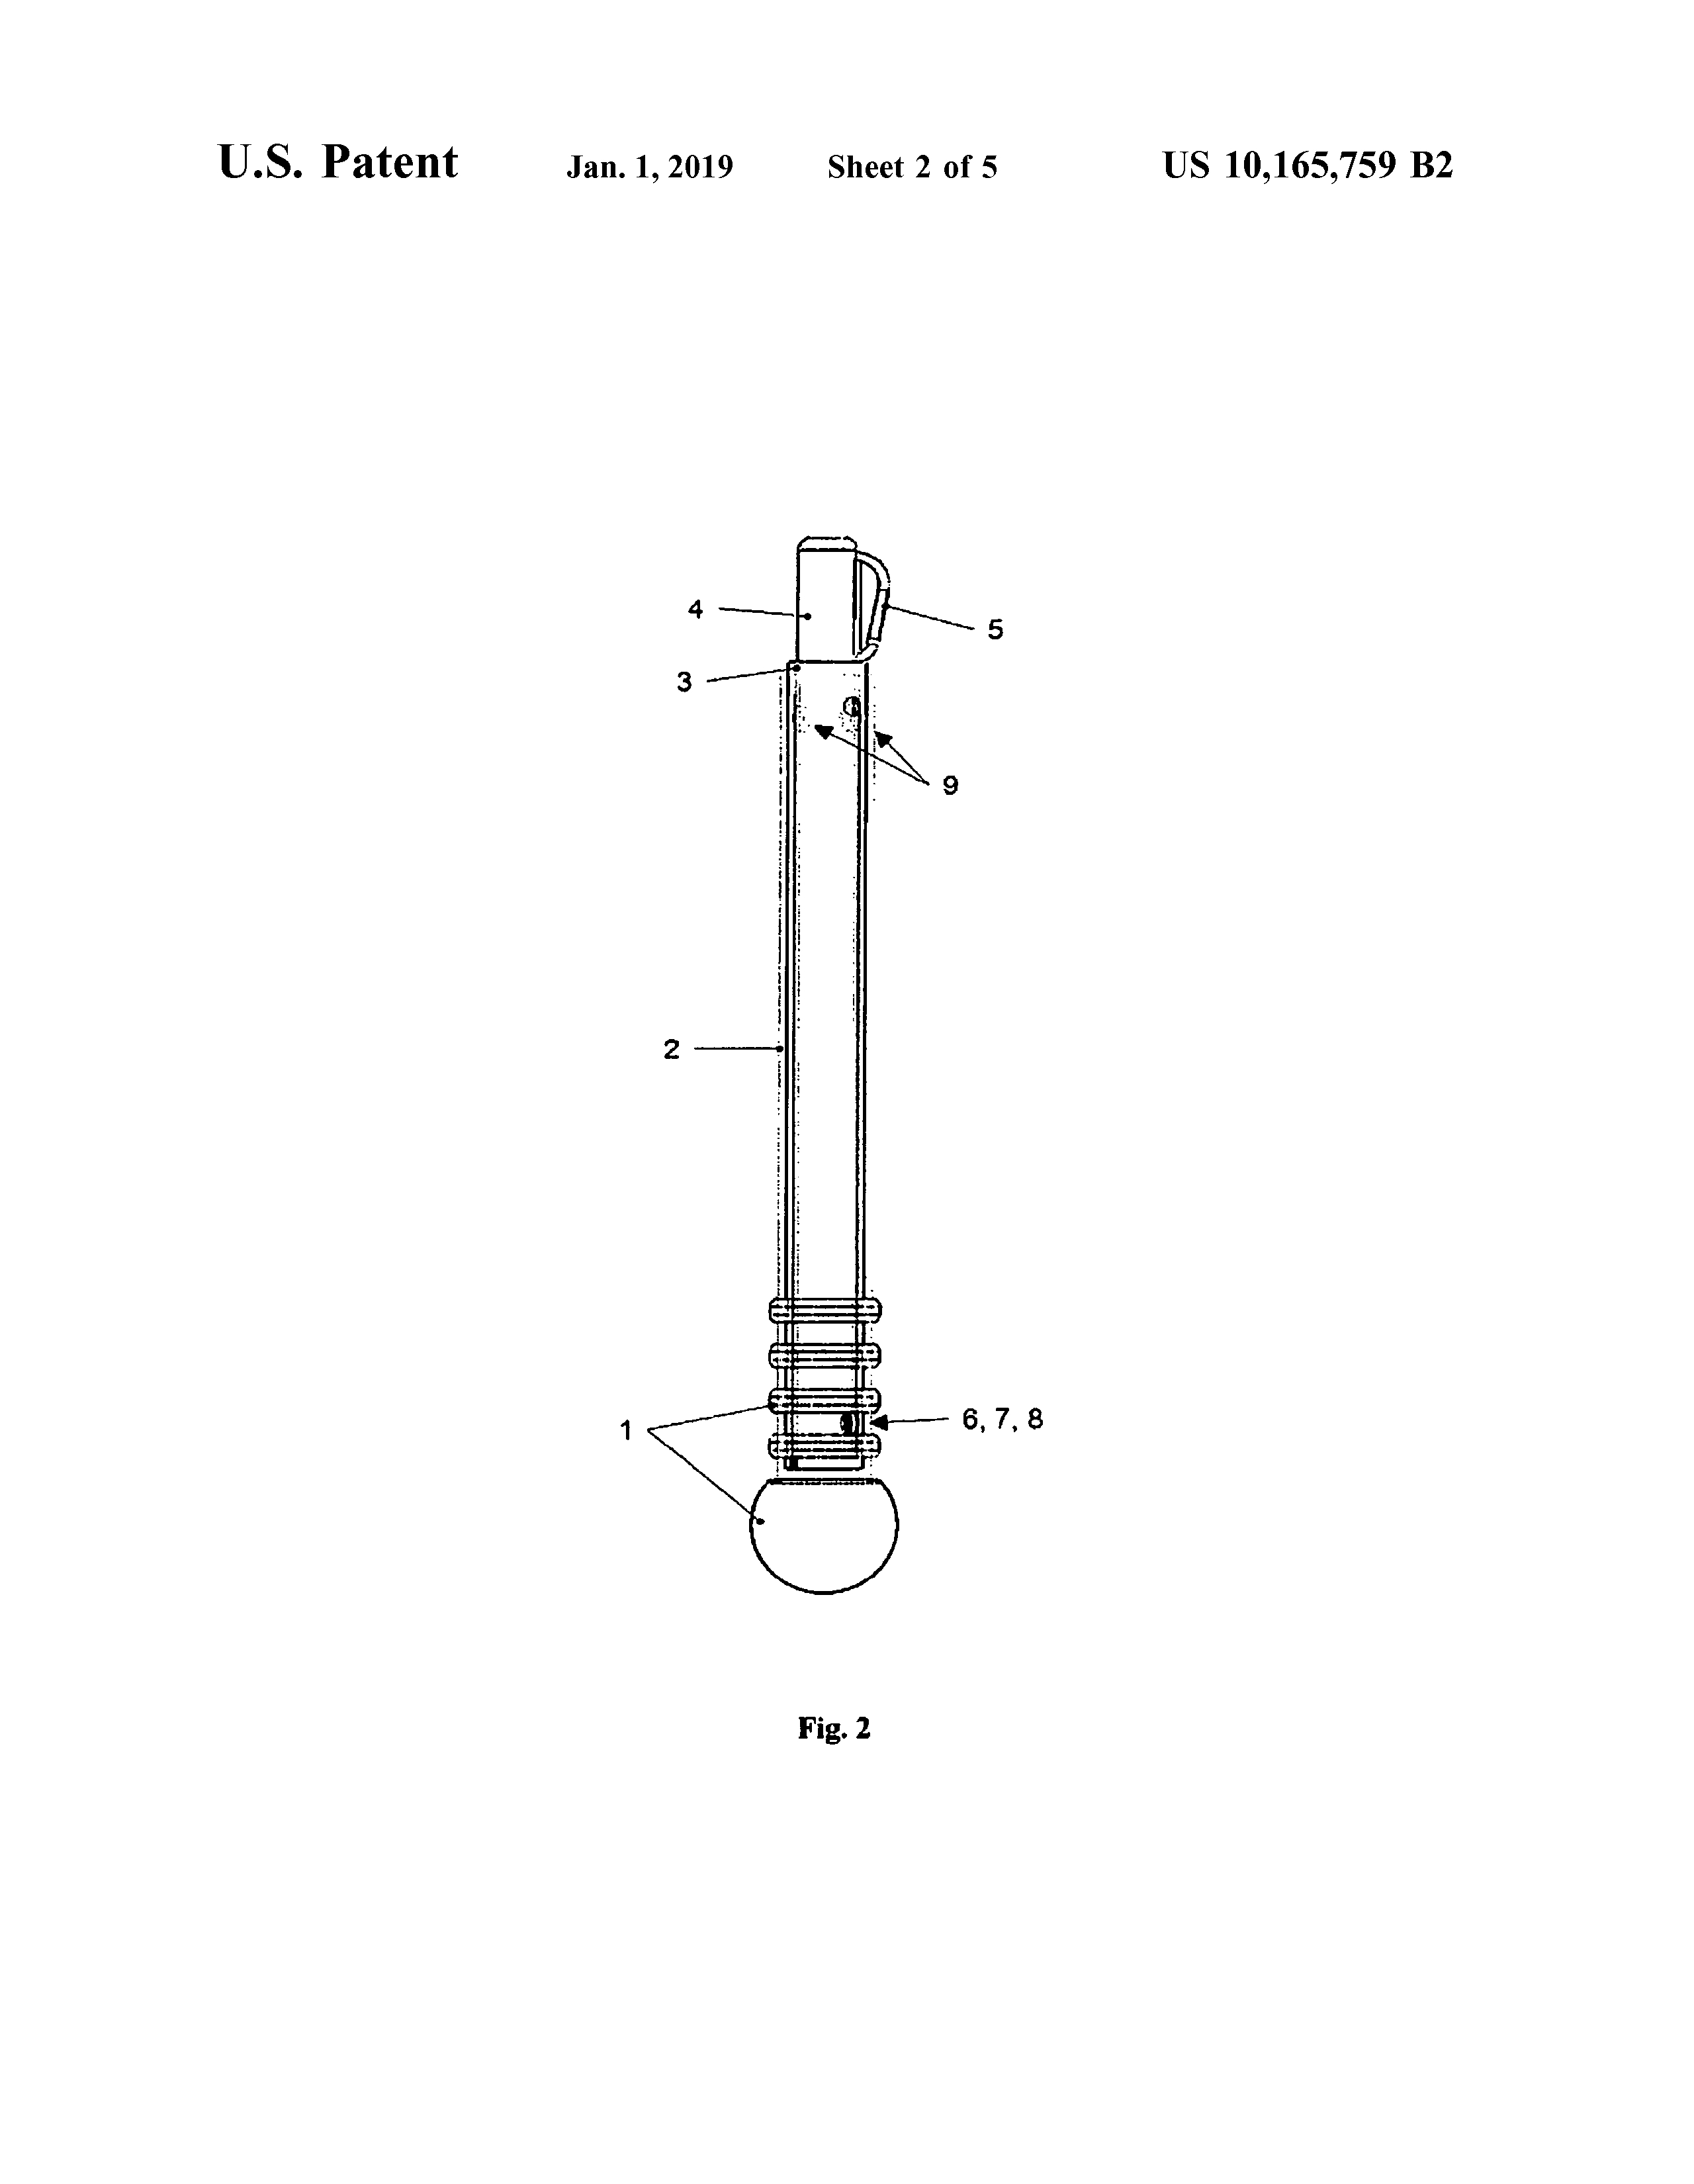patent image: (545, 482, 1130, 1850)
